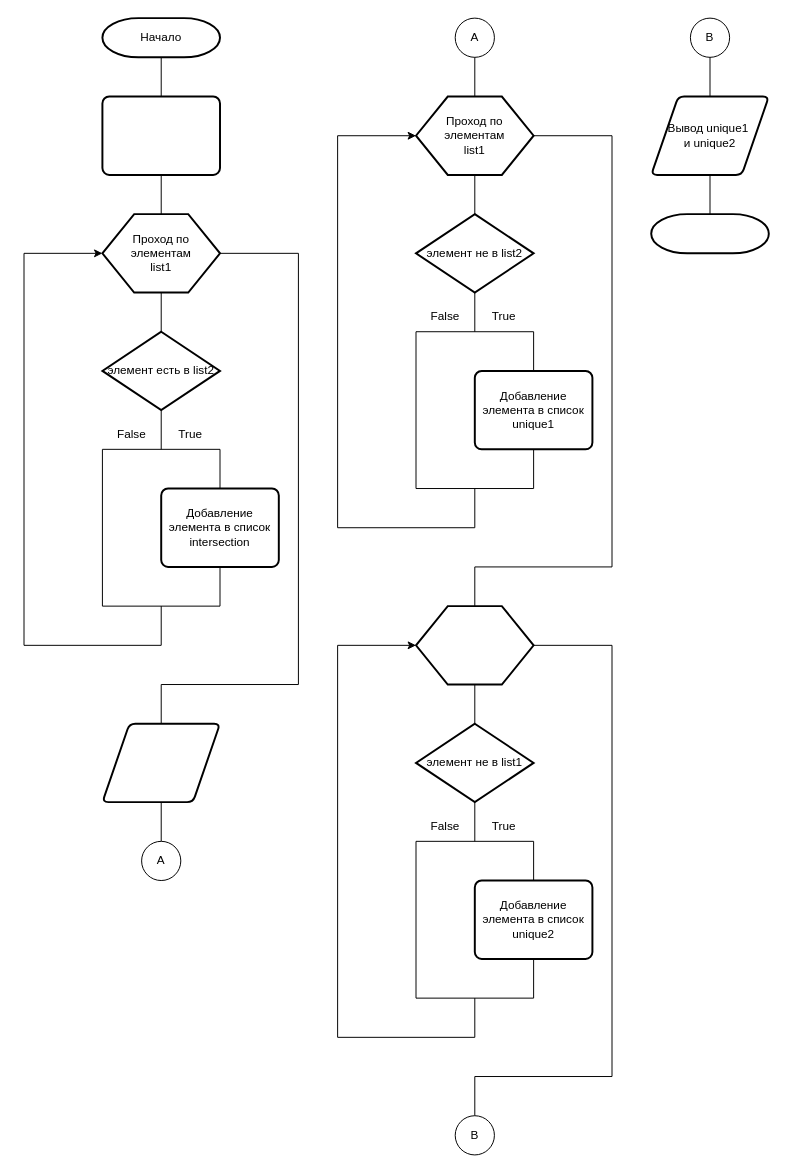
Some shapes in this 787 by 1172 pixel diagram are drawn without their labels. The box of each missing label's shape, as (x1, y1, x2, y2) in pixels:
Вывод intersection: (101, 722, 220, 803)
Конец: (650, 213, 769, 254)
Проход по элементам list2: (415, 605, 534, 685)
Создание списков словарей list1 и list2: (101, 95, 220, 175)
